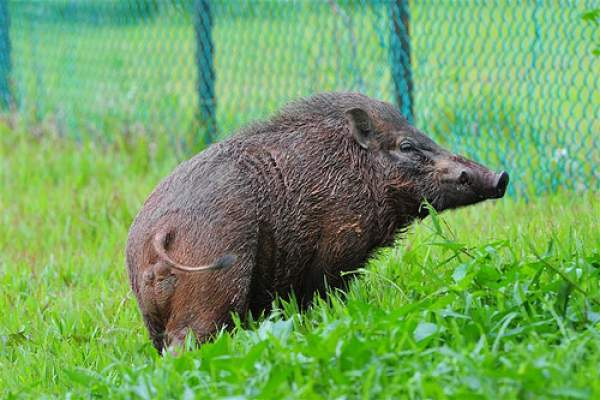boar: (122, 90, 513, 356)
